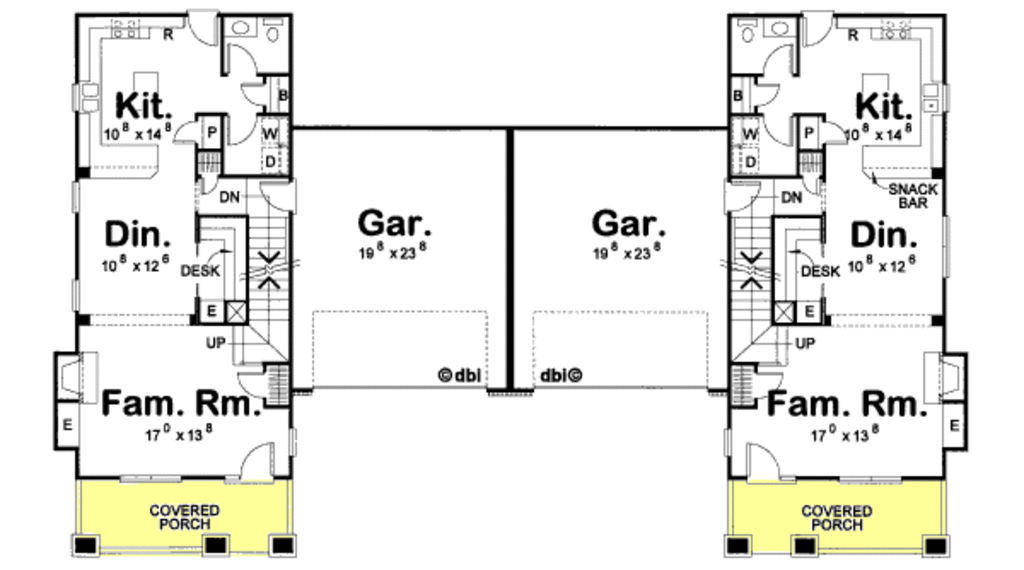door: (741, 438, 800, 481), (257, 176, 307, 216), (234, 442, 280, 485), (800, 5, 837, 52), (762, 43, 803, 85), (724, 178, 766, 217), (182, 10, 221, 48), (820, 116, 855, 155), (761, 110, 796, 149), (164, 113, 203, 148), (753, 365, 789, 402), (234, 366, 268, 401), (226, 44, 263, 75), (228, 112, 257, 147), (240, 76, 270, 108), (751, 79, 782, 109), (196, 169, 222, 198), (801, 170, 827, 196)
large_sink: (731, 17, 761, 46), (261, 12, 285, 41)
small_sink: (226, 16, 261, 39), (760, 17, 795, 37)
stairs: (728, 174, 822, 361), (223, 176, 299, 367)
twin_sink: (68, 81, 108, 118), (920, 78, 954, 115)
window: (832, 475, 906, 489), (943, 214, 955, 286), (67, 275, 87, 316), (118, 471, 185, 483), (66, 178, 82, 213)
